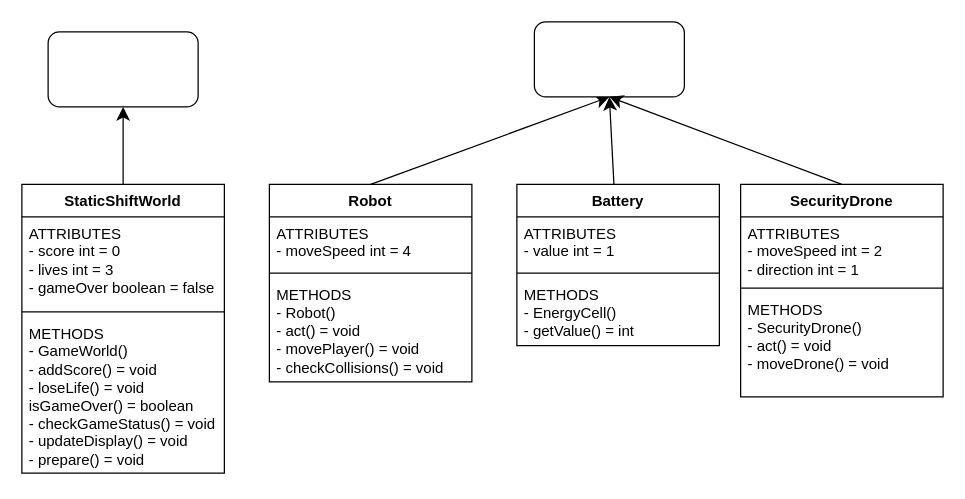
Image size: 965x499. Some labels were removed from this diagram. Each missing label, with the centre of its shape:
ACTOR: (608,59)
WORLD: (122,69)
